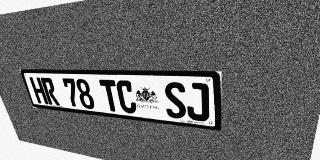7: (61, 78, 82, 108)
8: (74, 79, 96, 109)
C: (115, 80, 138, 114)
H: (29, 77, 49, 104)
J: (185, 82, 209, 122)
R: (40, 77, 60, 106)
S: (163, 82, 187, 119)
T: (99, 79, 121, 112)
